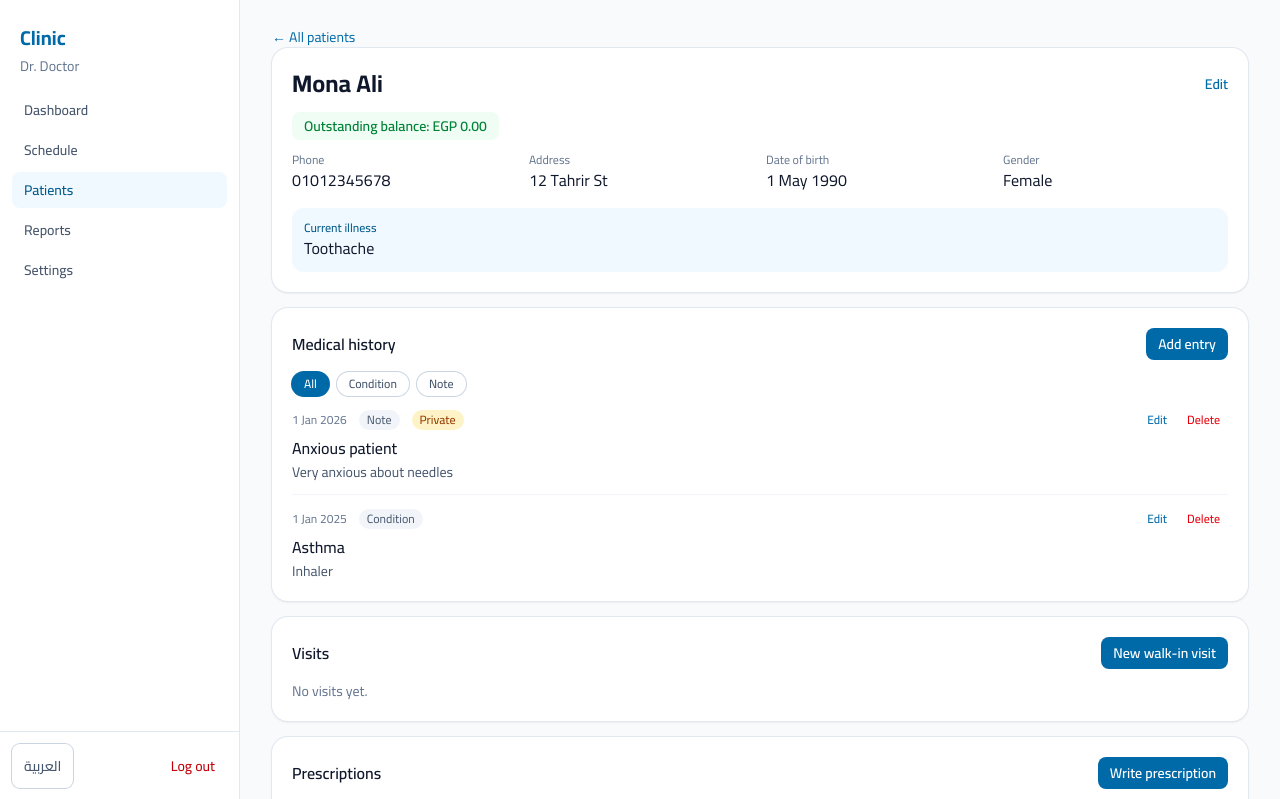
Test case: PatientDetails › filters the history by type
Click the button "Condition". click: (373, 384)
box: [337,372,409,396]
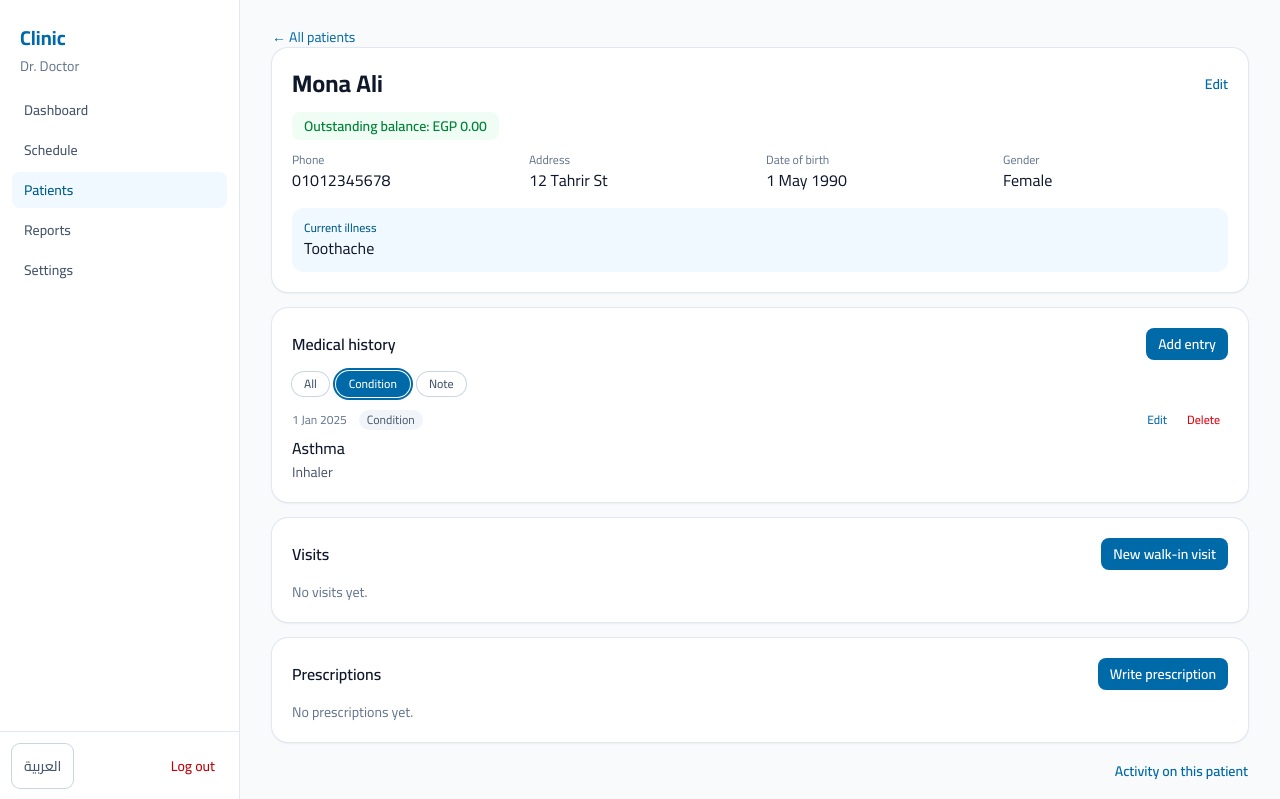
Expected: the text "Asthma" is shown, [292,433,345,463]
Expected: the text "Anxious patient" is gone
